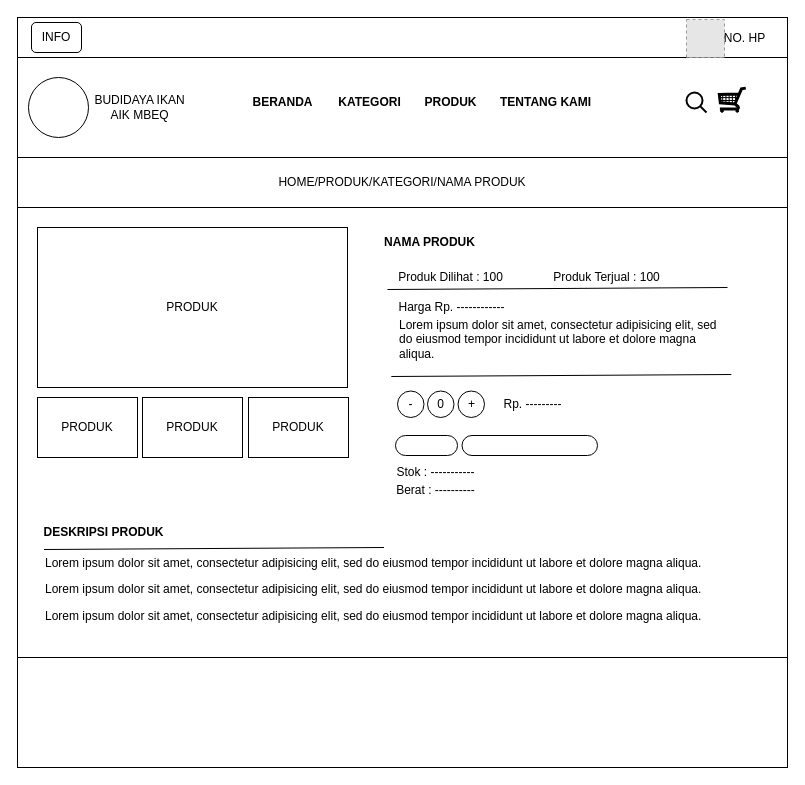
This 805x785 diagram has some shape labels left out. Grey dashed boxes stand in for pictures. Each missing label, with the centre of its shape:
"Beli" goes at pixel 426 445.
"FOOTER" goes at pixel 402 712.
"LOGO" goes at pixel 58 107.
"Tambahkan Keranjang" goes at pixel 529 445.
